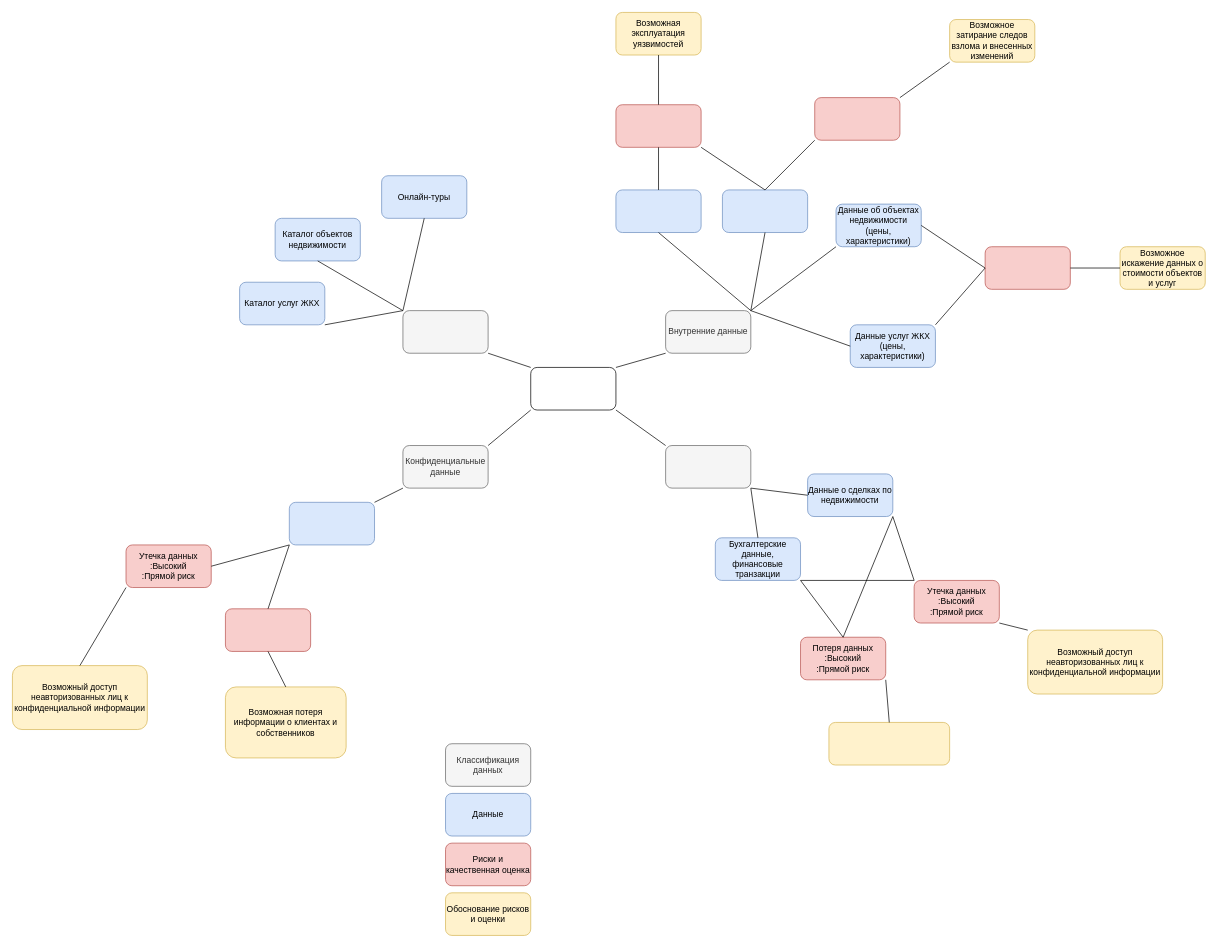
This 1218x948 diagram has some shape labels left out. Each missing label, with the centre of its shape:
"Безопасность данных" goes at (573,388).
"Возможная потеря данных о сделках" goes at (889,743).
"Журналы логирования" goes at (765,211).
"Информация по инфраструктуре, конфиги оборудования" goes at (658,211).
"Искажение данных :Средний :Косвенный риск" goes at (1027,267).
"Персональные данные клиентов и собственников" goes at (332,523).
"Потеря данных :Низкий :Косвенный риск" goes at (857,118).
"Потеря данных: :Высокий :Прямой риск" goes at (268,629).
"Публичные данные" goes at (445,331).
"Секретные данные" goes at (708,466).
"Утечка данных :Средний :Косвенный риск" goes at (658,125).
